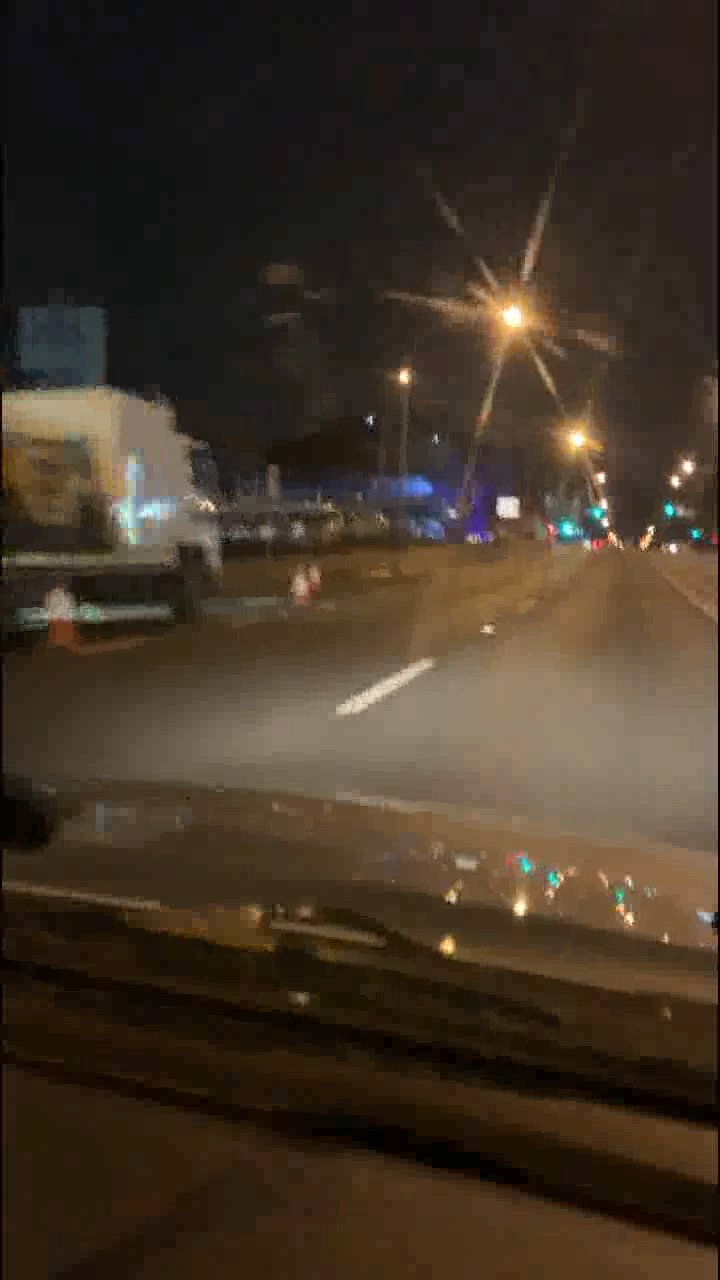road cone: (285, 567, 318, 608)
truck: (7, 372, 245, 617)
